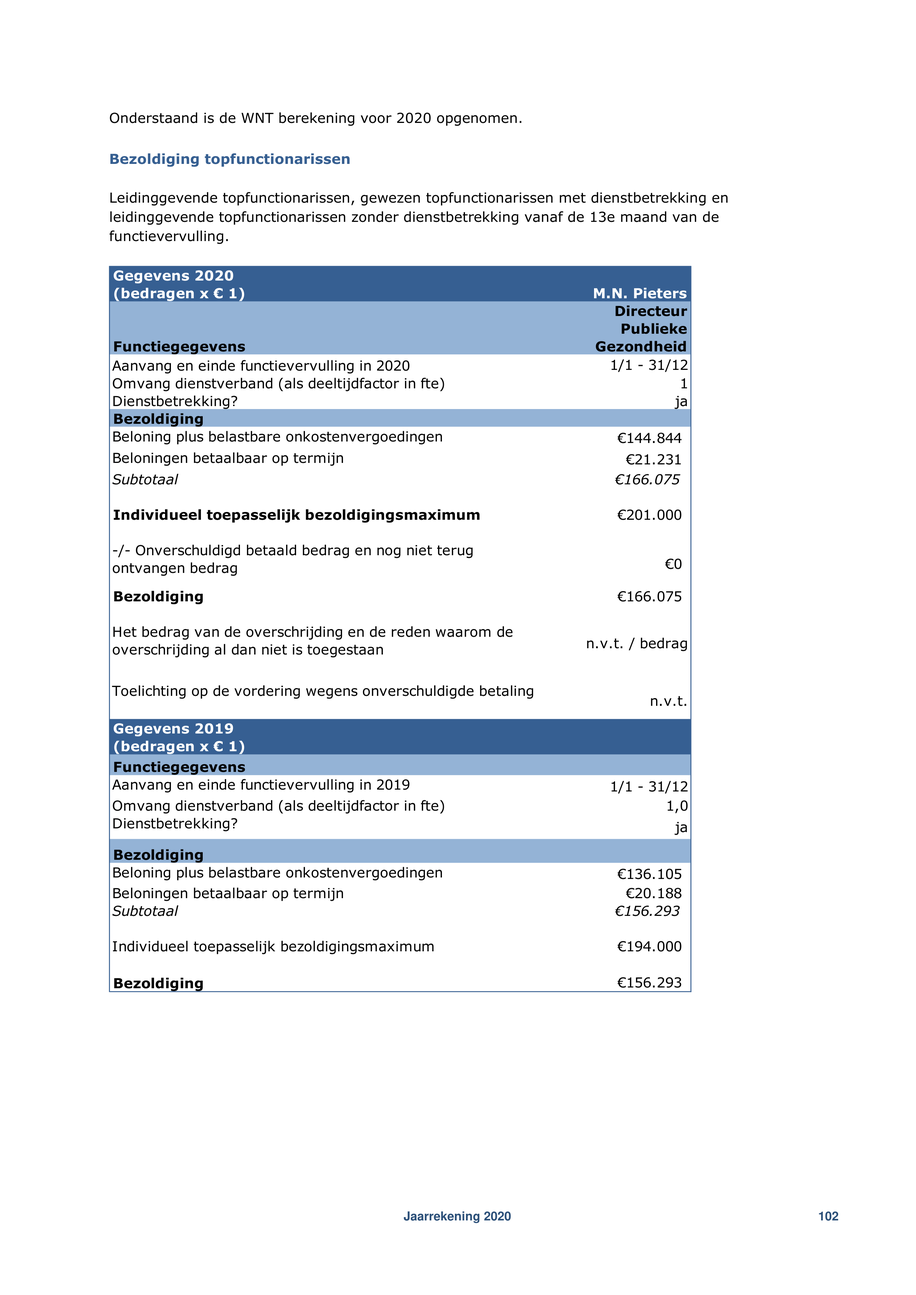coulmn: (110, 267, 513, 995), (568, 281, 692, 993)
